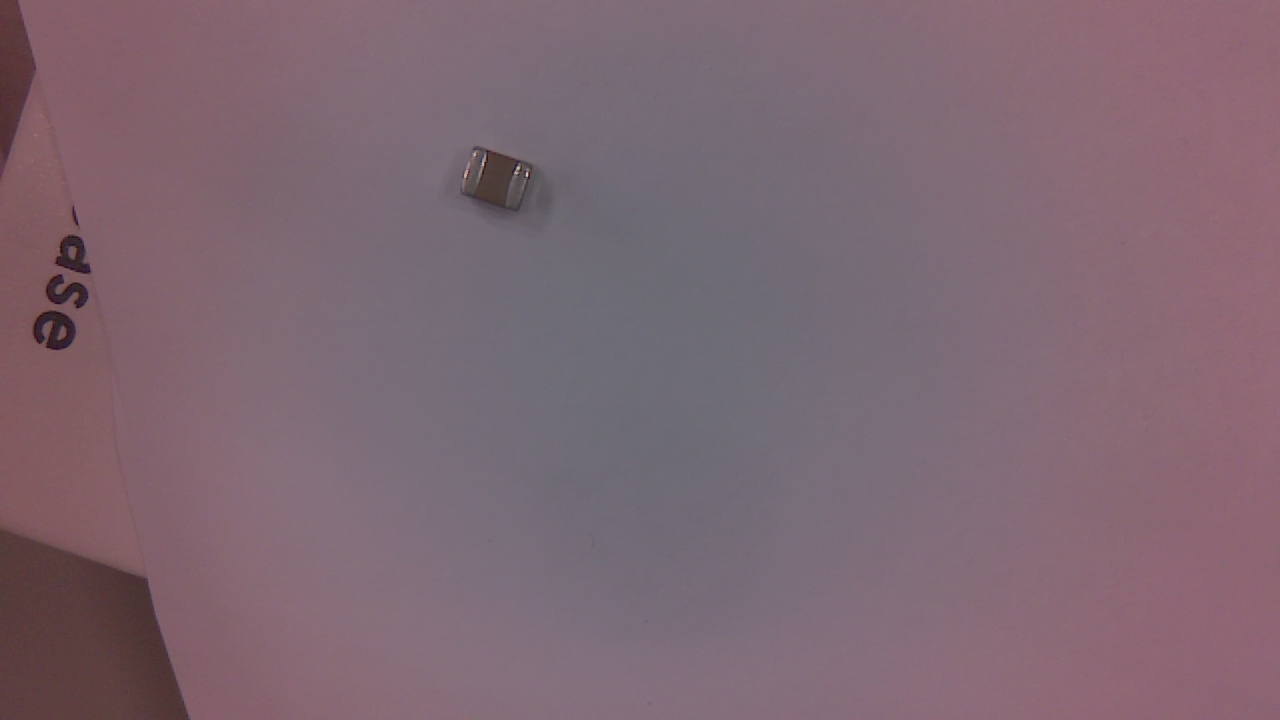Condensator: (460, 153, 538, 220)
